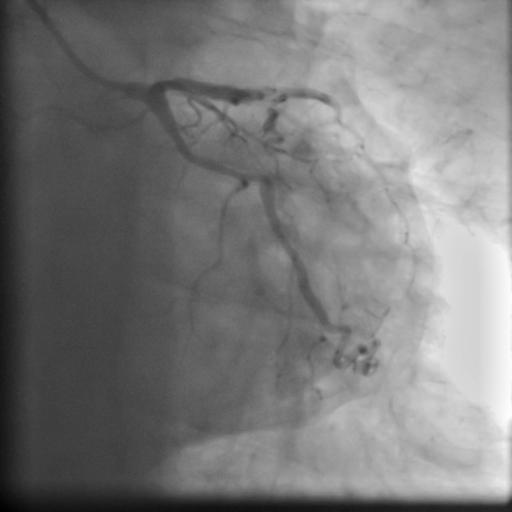Stenosis: (245, 170, 270, 189)
